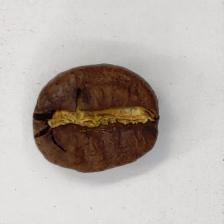NG: (47, 80, 145, 154)
